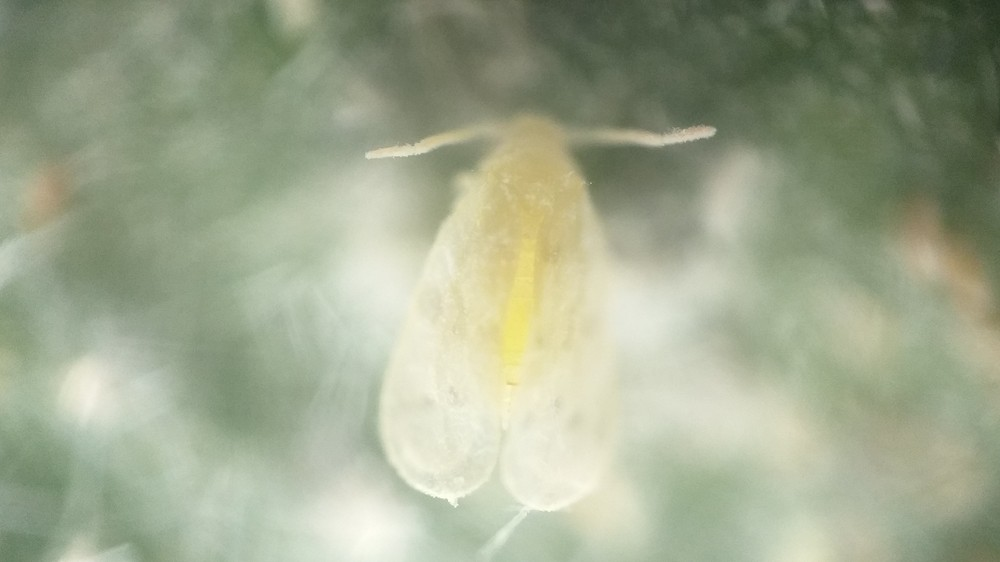Mosca Blanca: (353, 97, 734, 529)
